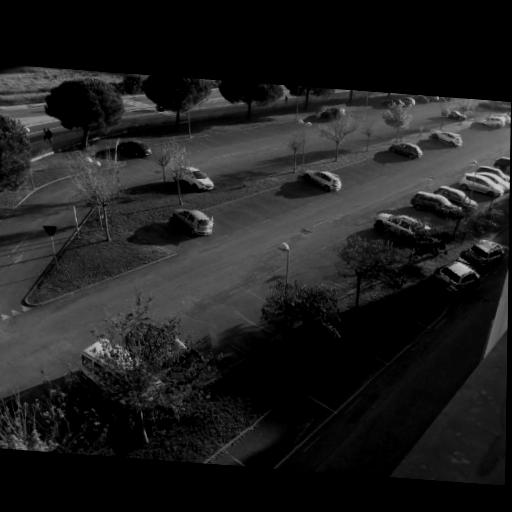busy: (123, 309, 216, 391), (79, 342, 179, 403), (373, 209, 434, 245), (431, 257, 480, 301), (168, 205, 215, 239), (460, 238, 504, 272), (297, 167, 347, 195), (413, 192, 462, 220), (458, 175, 504, 198), (178, 169, 220, 194), (436, 185, 476, 208), (116, 138, 154, 160), (390, 138, 425, 161), (315, 104, 349, 125), (428, 130, 463, 150), (479, 113, 509, 130)
free: (39, 390, 104, 440), (248, 417, 297, 454), (216, 315, 261, 347), (180, 324, 221, 356), (229, 294, 274, 323), (377, 323, 420, 350), (330, 361, 366, 389), (415, 293, 450, 321), (293, 274, 329, 297), (254, 275, 285, 300), (148, 223, 182, 245), (221, 202, 250, 223), (307, 260, 338, 279), (209, 216, 235, 235), (405, 207, 436, 221), (249, 200, 273, 218), (264, 190, 288, 207), (324, 248, 349, 264), (208, 130, 234, 145), (343, 167, 367, 182), (284, 187, 308, 200), (365, 158, 385, 173), (249, 124, 271, 136), (471, 122, 494, 133), (459, 128, 480, 139), (270, 122, 289, 134), (191, 137, 216, 146), (231, 129, 250, 139), (422, 143, 441, 151)
